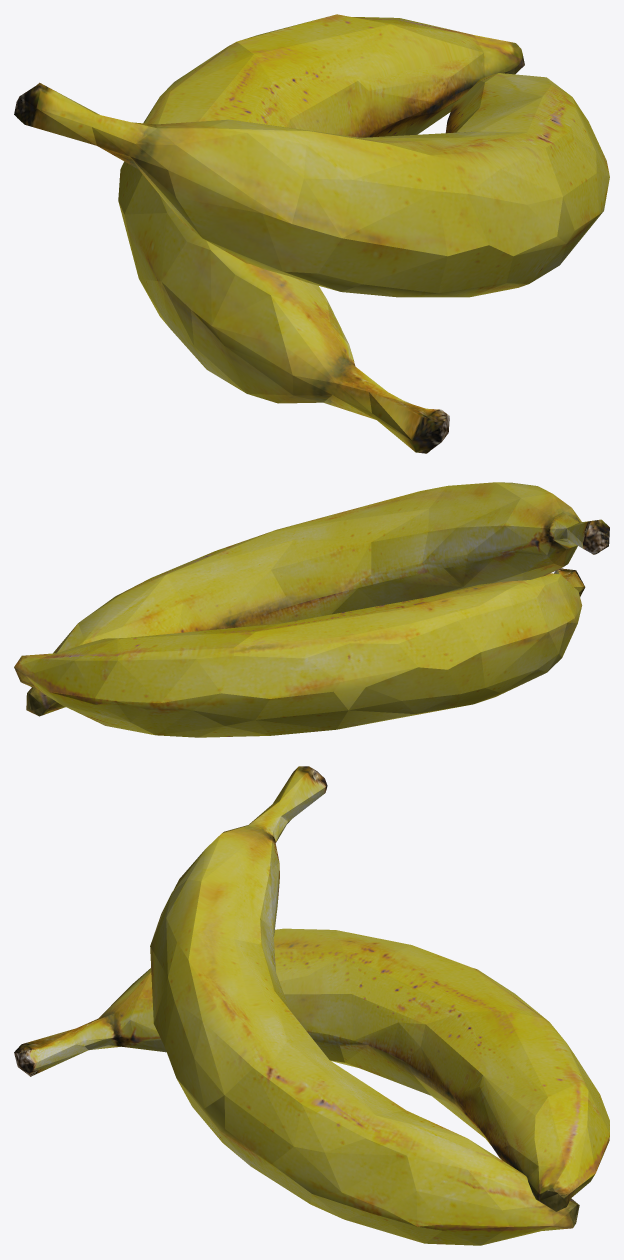
Rendered from banana.gltf.
The picture shows the model from 3 angles, top to bottom: view 1: azimuth 30°, elevation 25°; view 2: azimuth 150°, elevation 25°; view 3: azimuth 270°, elevation 25°; orthographic projection. The views are drawn at different scales.
Visible parts, largest first — view 1: Banana, Banana001; view 2: Banana001, Banana; view 3: Banana, Banana001.
Boxes of the visible parts, <box> form: Banana: <box>14,73,609,297</box>; Banana001: <box>118,14,524,453</box>; Banana001: <box>14,568,585,737</box>; Banana: <box>26,482,609,716</box>; Banana: <box>150,766,579,1245</box>; Banana001: <box>14,928,609,1211</box>.
Bounding box in the file's own units: 0.0746 × 0.0345 × 0.0743.
1 material, 1 textured.
